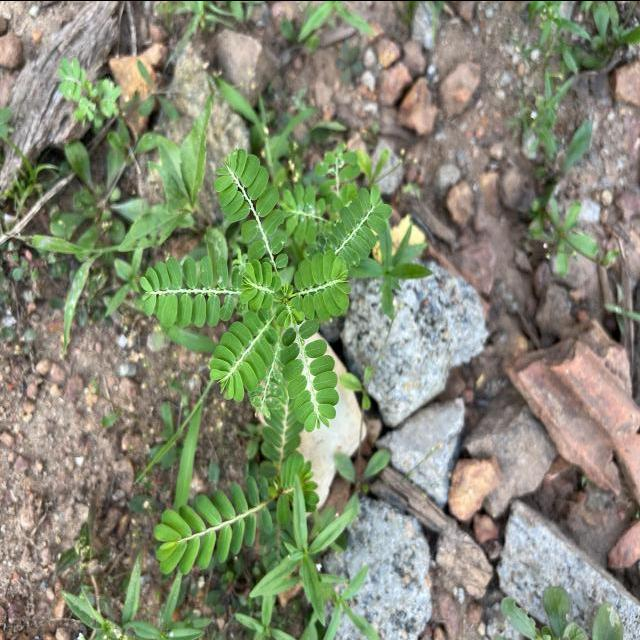Phyllanthus niruri: (152, 472, 275, 576), (212, 145, 290, 268), (136, 253, 248, 329), (278, 318, 342, 434), (207, 308, 280, 404), (330, 183, 394, 269), (294, 245, 354, 323)
